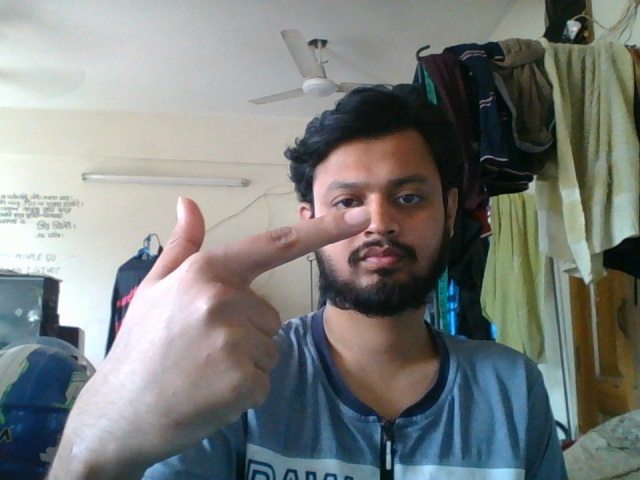tho: (93, 190, 376, 435)
